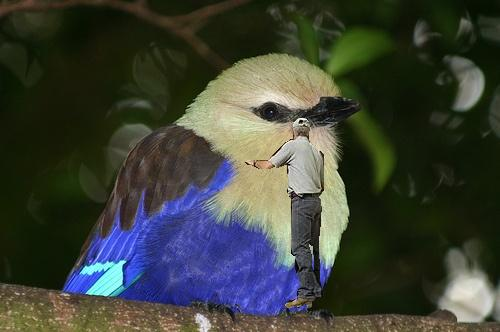tampered: (246, 118, 324, 308)
